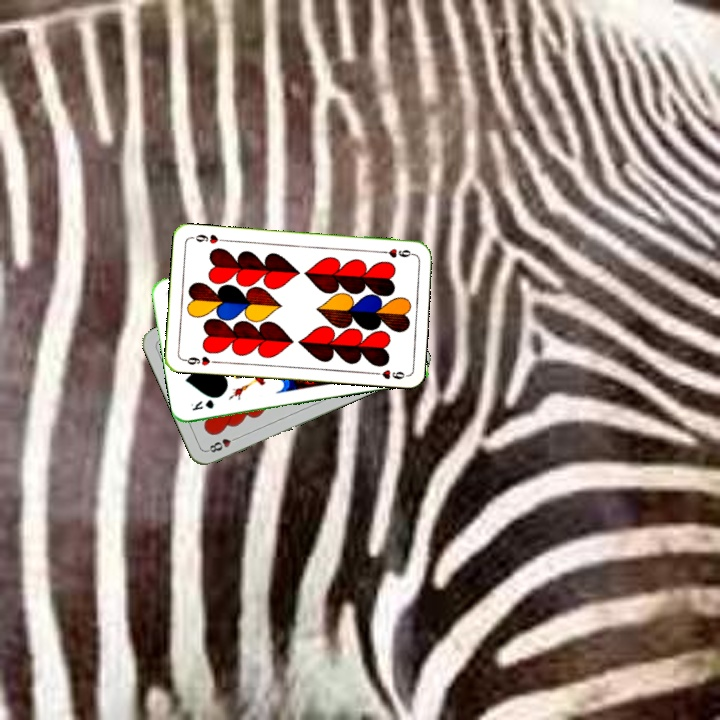GK: (188, 395, 216, 413)
H8: (204, 432, 242, 455)
H9: (179, 352, 220, 368), (376, 245, 416, 260)
